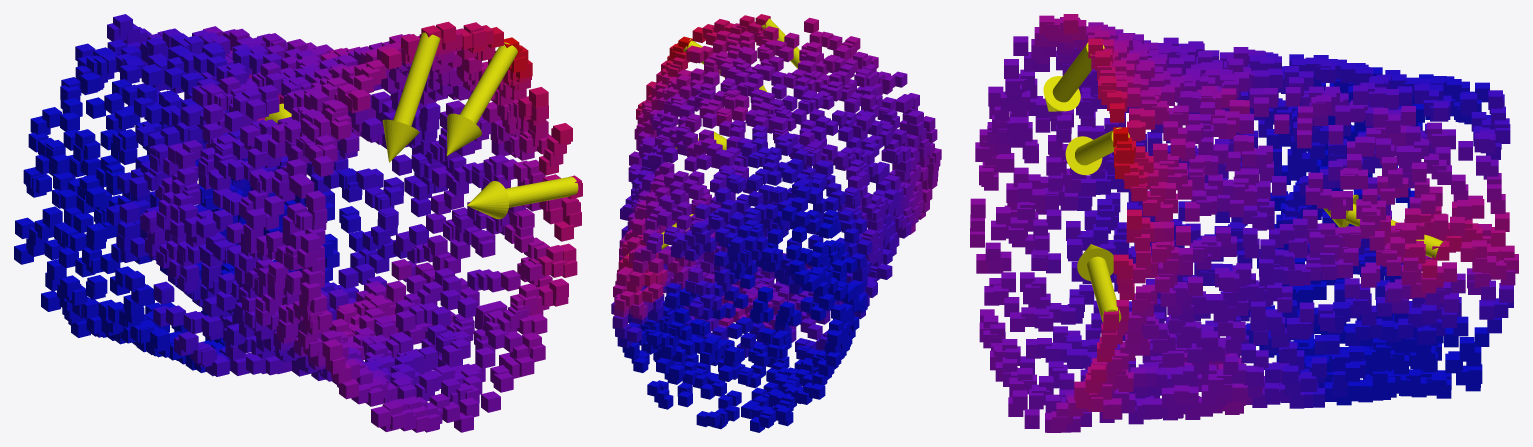
Rendered from heatmap_force.glb.
3 renders of one model, left to right at view 1: azimuth 30°, elevation 25°; view 2: azimuth 150°, elevation 25°; view 3: azimuth 270°, elevation 25°, orthographic. The views are drawn at different scales.
Visible parts, largest first — view 1: world; view 2: world; view 3: world.
Part boxes in pixels (<box>): world: <box>14,14,582,432</box>; world: <box>611,14,941,432</box>; world: <box>970,14,1518,432</box>.
Bounding box in the file's own units: 0.0979 × 0.0899 × 0.1108.
